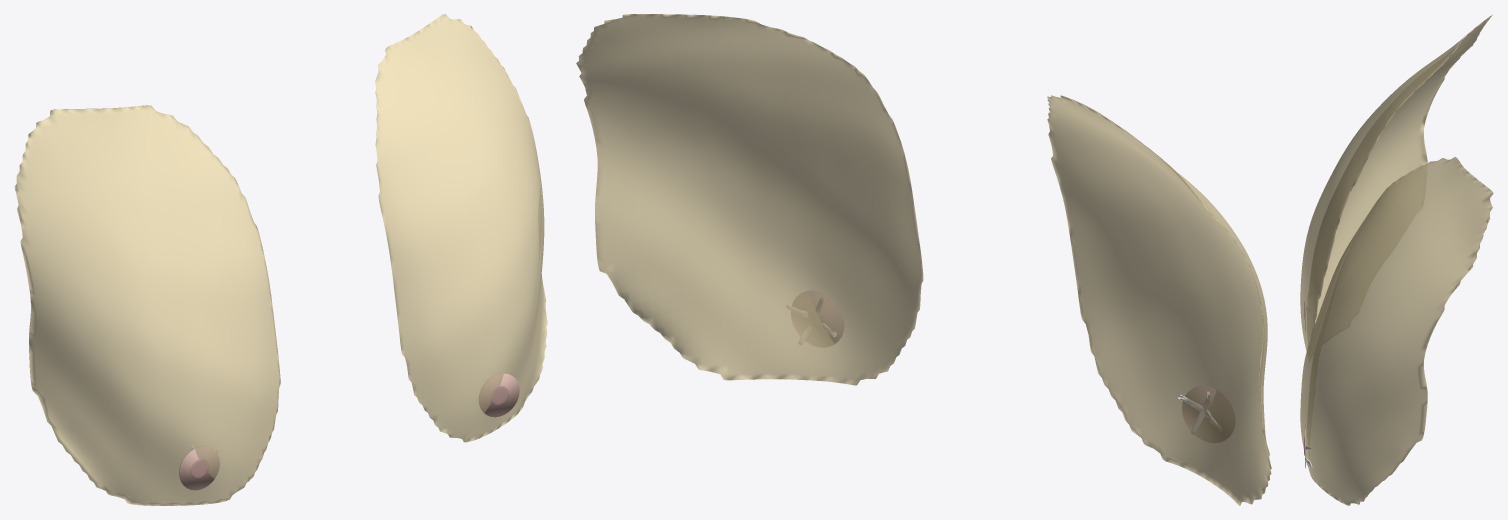
Rendered from male_chest.glb.
The picture shows the model from 3 angles, left to right: view 1: azimuth 30°, elevation 25°; view 2: azimuth 150°, elevation 25°; view 3: azimuth 270°, elevation 25°; orthographic projection. The views are drawn at different scales.
Visible parts, largest first — view 1: VH_M_subcutaneous_adipose_tissue_R, VH_M_subcutaneous_adipose_tissue_L, VH_M_areola_R, VH_M_areola_L; view 2: VH_M_subcutaneous_adipose_tissue_L, VH_M_subcutaneous_adipose_tissue_R, VH_M_areola_R; view 3: VH_M_subcutaneous_adipose_tissue_L, VH_M_subcutaneous_adipose_tissue_R.
Part boxes in pixels (x1,y1,x2,y2): VH_M_subcutaneous_adipose_tissue_R: (14, 105, 280, 505); VH_M_subcutaneous_adipose_tissue_L: (375, 14, 547, 442); VH_M_areola_R: (479, 373, 519, 417); VH_M_areola_L: (179, 446, 219, 490); VH_M_subcutaneous_adipose_tissue_L: (576, 14, 923, 385); VH_M_subcutaneous_adipose_tissue_R: (1047, 95, 1271, 505); VH_M_areola_R: (809, 290, 843, 343); VH_M_subcutaneous_adipose_tissue_L: (1300, 157, 1493, 505); VH_M_subcutaneous_adipose_tissue_R: (1300, 14, 1492, 350).
Bounding box in the file's own units: 0.2752 × 0.1747 × 0.0973.
